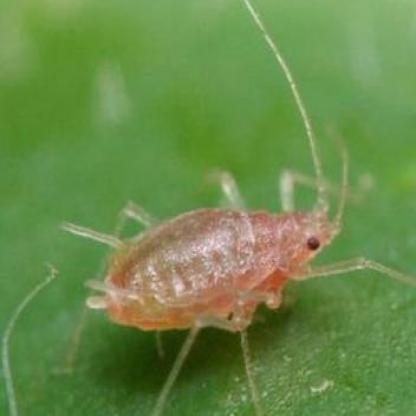aphid: (70, 68, 375, 395)
